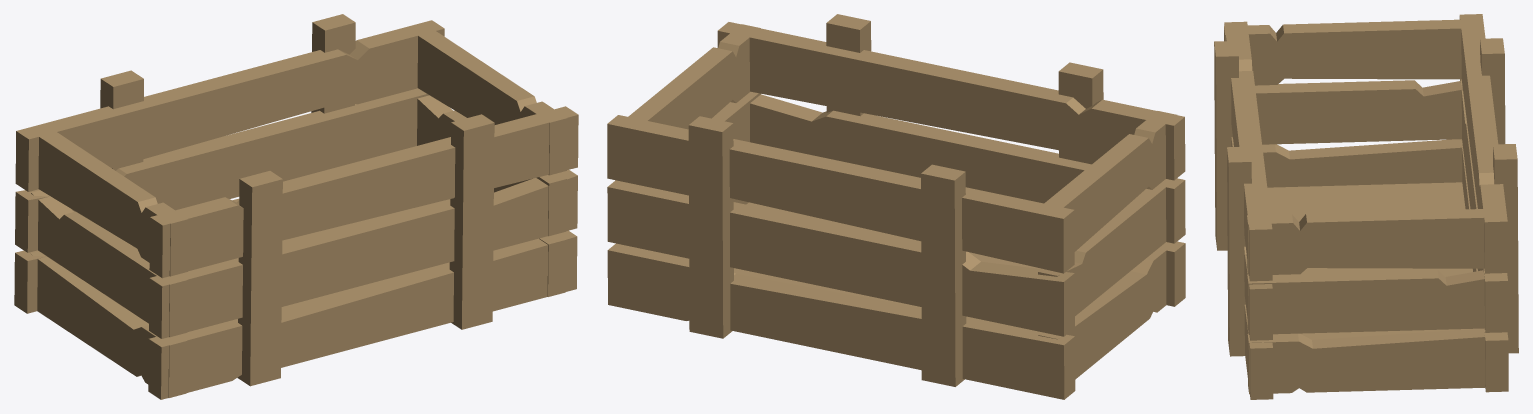
3 renders of one model, left to right at view 1: azimuth 30°, elevation 25°; view 2: azimuth 150°, elevation 25°; view 3: azimuth 270°, elevation 25°, orthographic. The views are drawn at different scales.
Parts seen in each view (by area): view 1: Market Scene.020; view 2: Market Scene.020; view 3: Market Scene.020.
Part boxes in pixels (bbox=[...]): Market Scene.020: bbox=[14, 14, 578, 399]; Market Scene.020: bbox=[607, 14, 1185, 399]; Market Scene.020: bbox=[1214, 14, 1518, 399].
Bounding box in the file's own units: 476 × 207 × 289.
